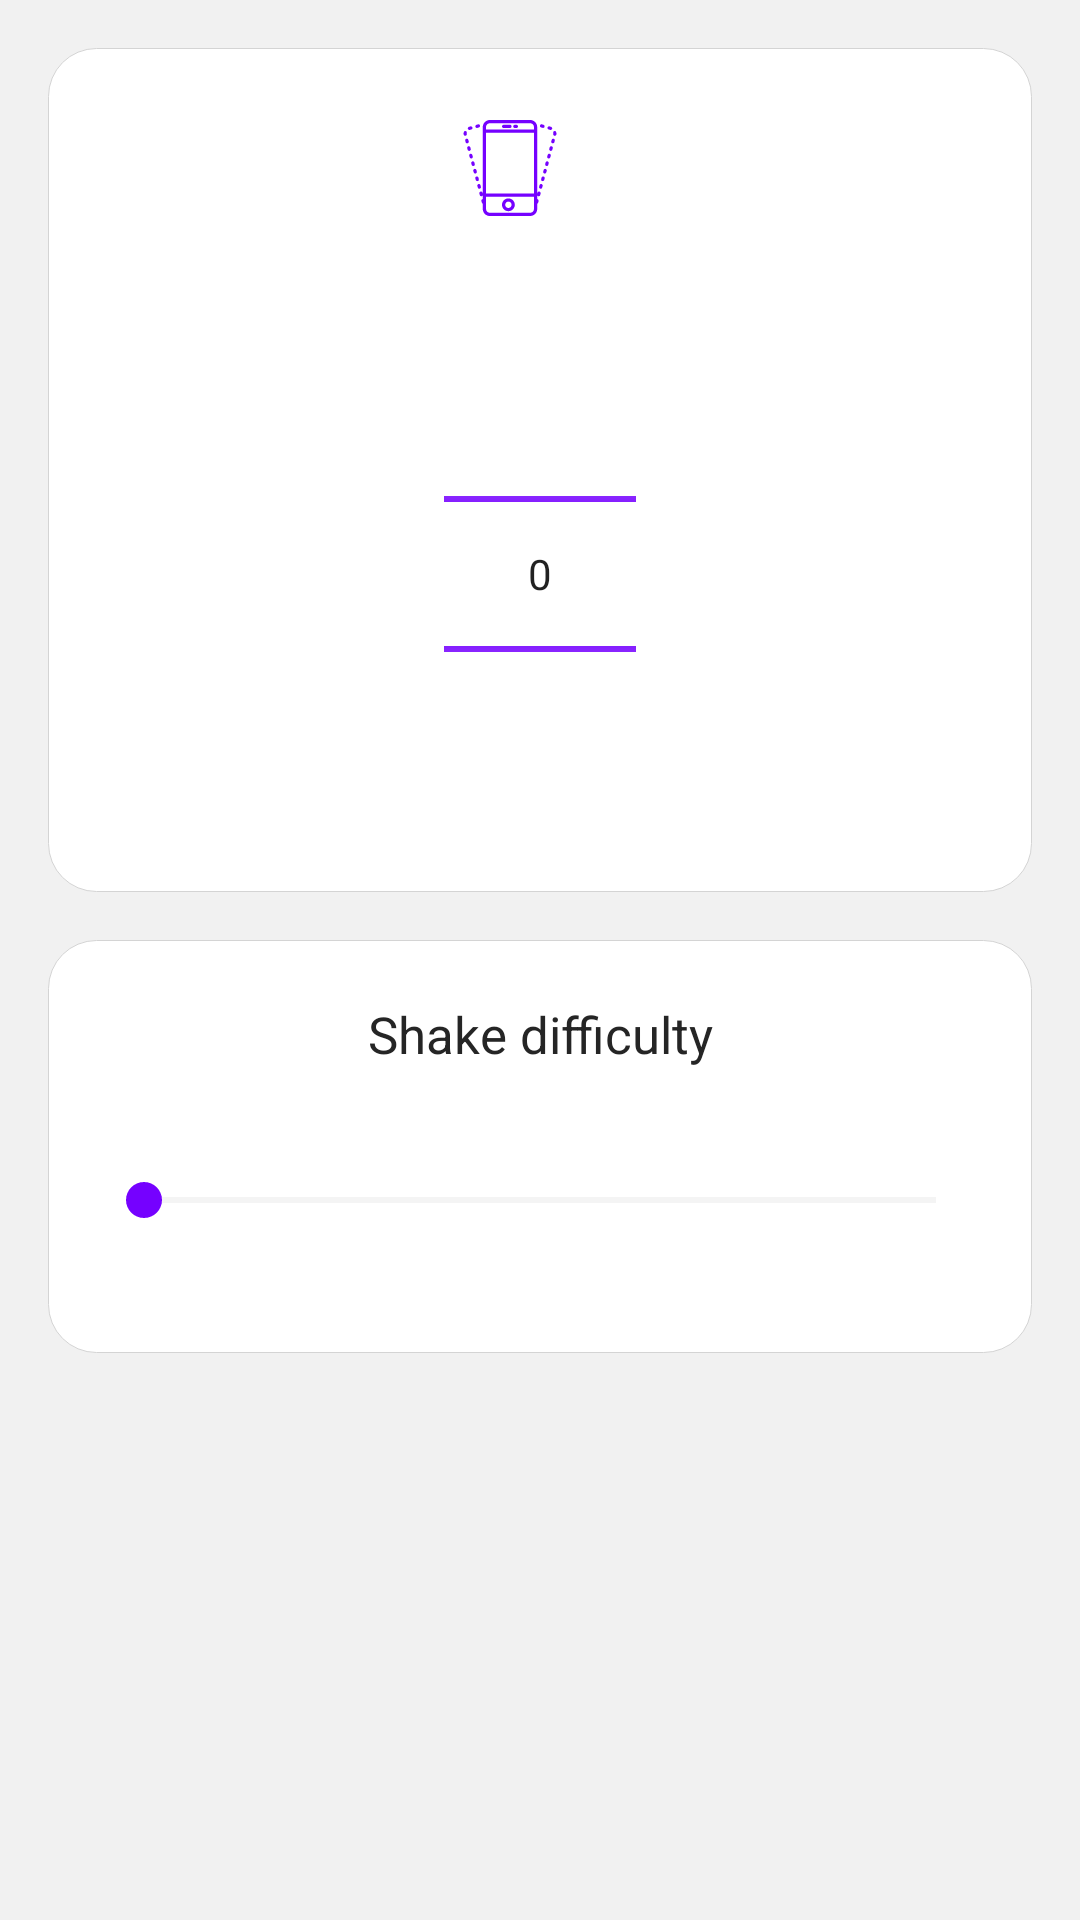

Icon bounding boxes for this 1080*1920 phone screenshot, format (x1,y1,x2,y2):
smart phone: (463,120,557,216)
